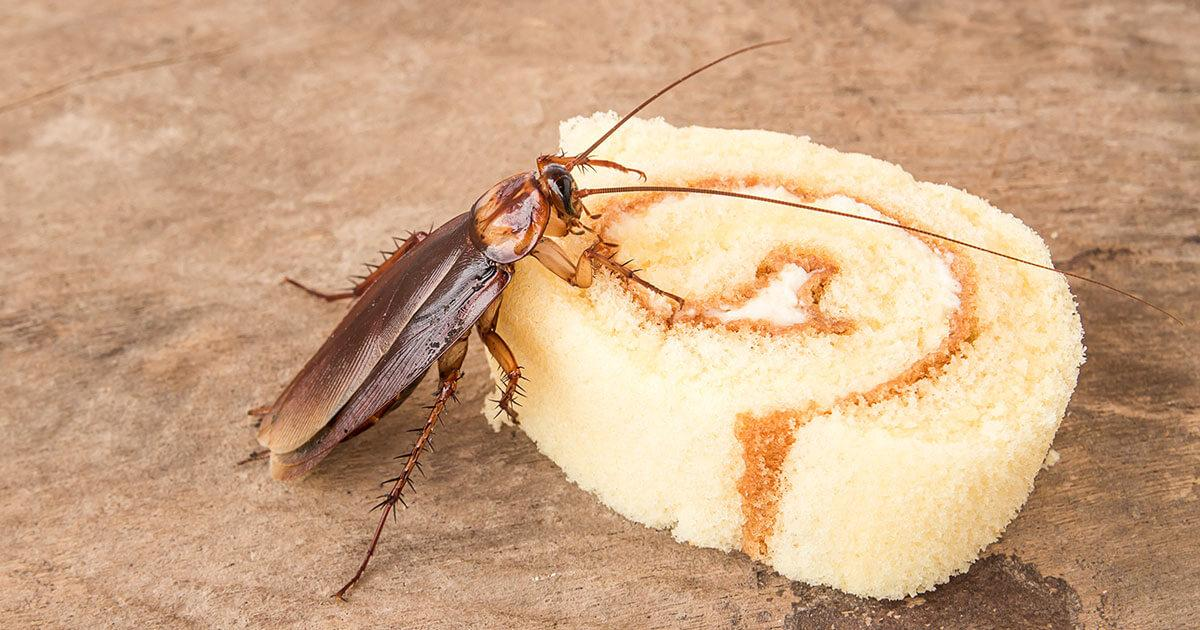cockroach: (246, 148, 604, 489)
